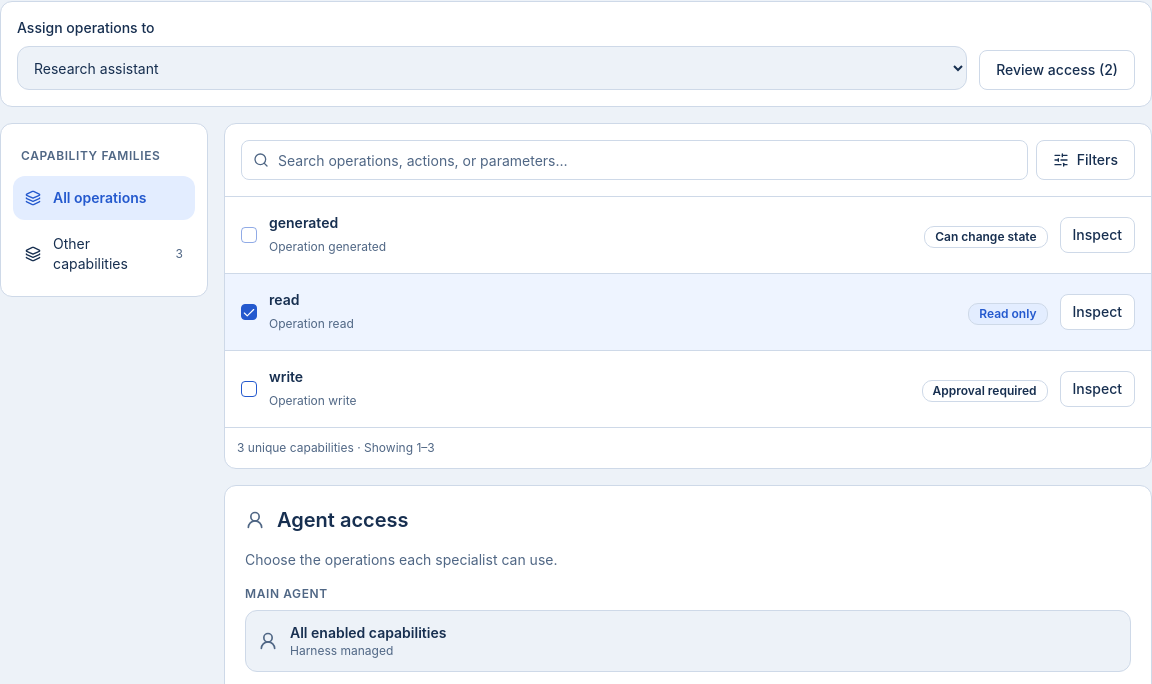
Test case: specialist access in Capability Studio › rechecks the current main-agent identity immediately before a save
Click the checkbox named "Assign write" at (249, 389), box [241, 381, 257, 397]
(page scrolled)
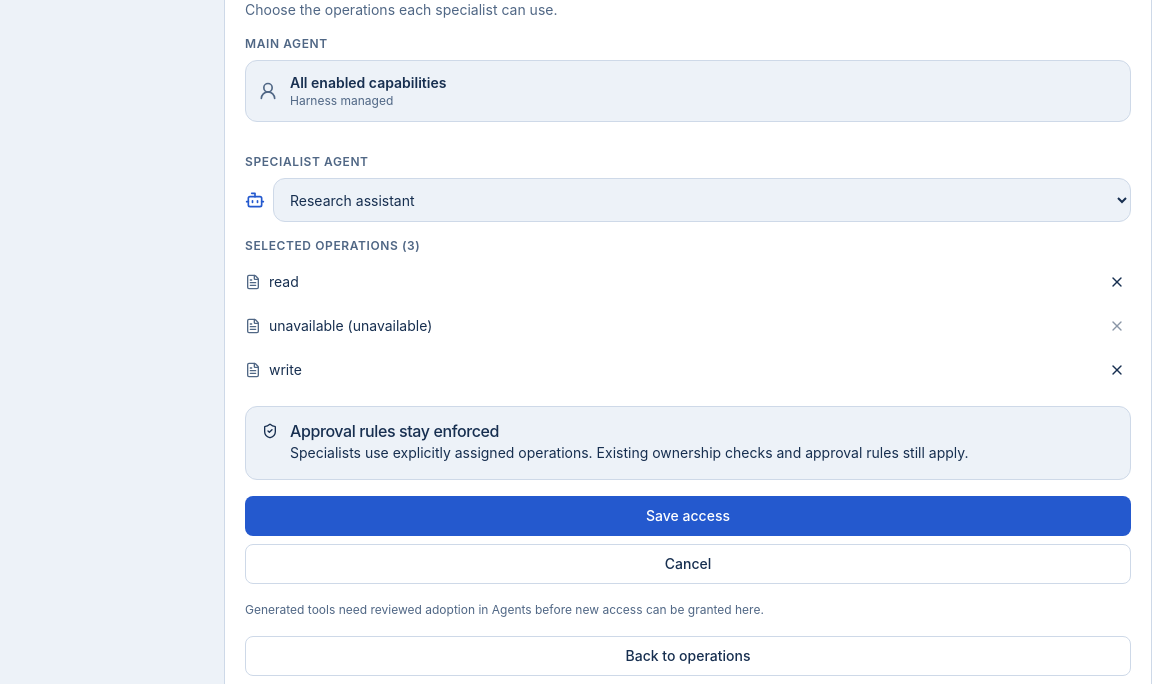
Click the button "Save access" at (688, 516), box [245, 496, 1131, 536]
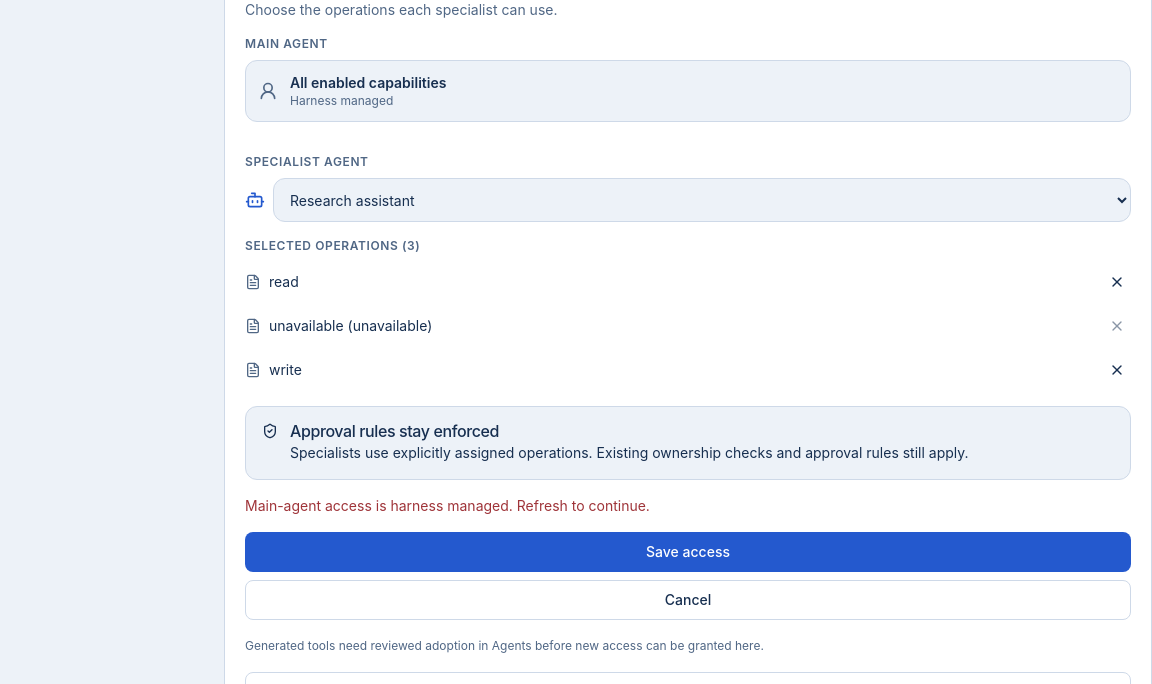
Expected: the text "Main-agent access is harness managed. Refresh to continue." is shown, [245, 497, 650, 514]
